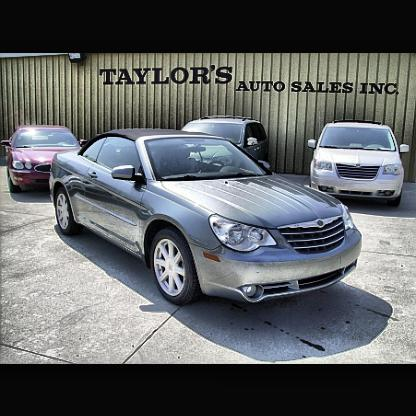Chrysler Sebring Convertible 2010: (52, 130, 363, 308)
